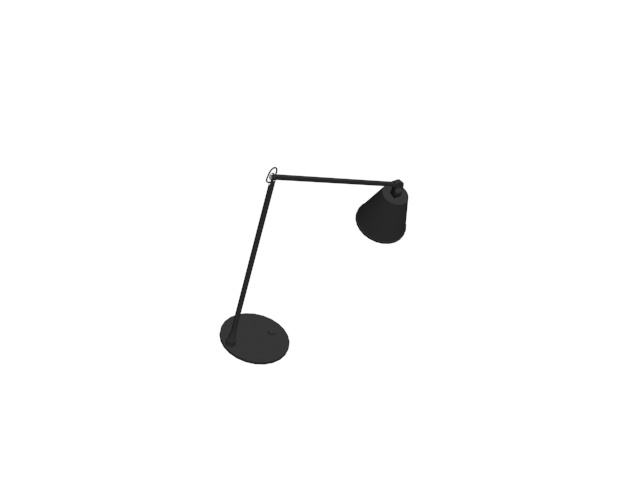desk_lamp: (217, 161, 416, 368)
